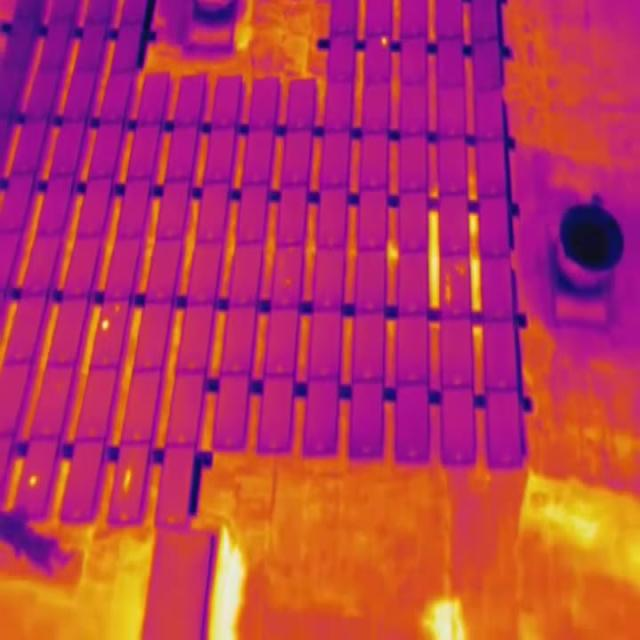Orange-Spots: (122, 467, 132, 490), (445, 273, 452, 303), (456, 262, 466, 274), (28, 475, 38, 486), (101, 320, 110, 330), (284, 278, 292, 286), (381, 37, 388, 46), (115, 305, 119, 312)
